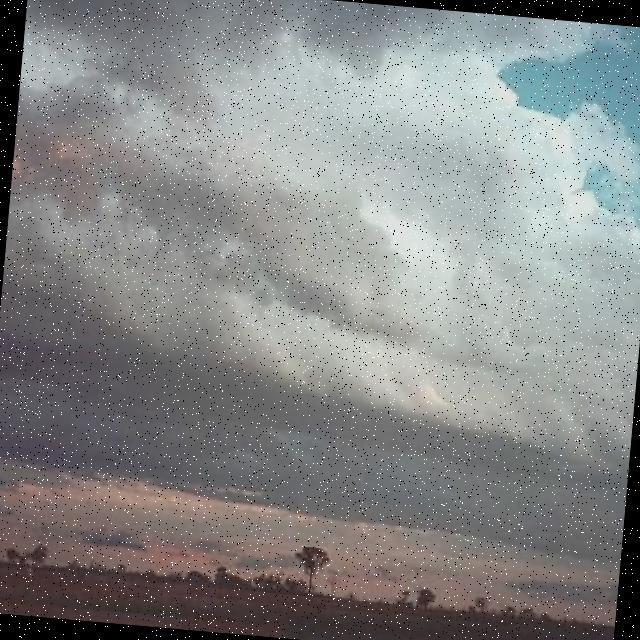St: (1, 1, 640, 487)
